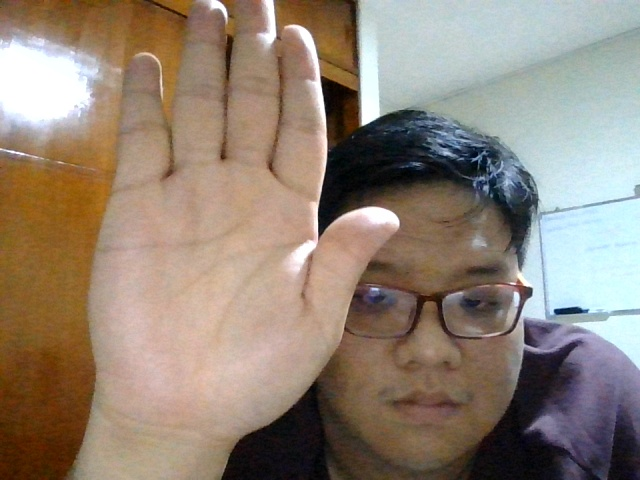hola: (86, 3, 401, 438)
